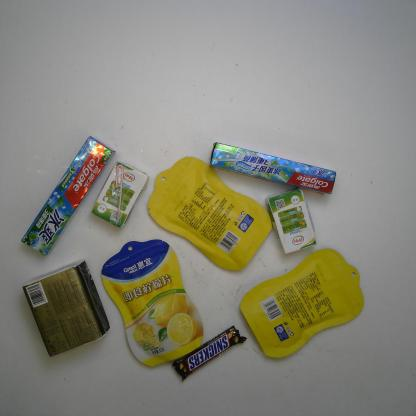Chocolate: (171, 325, 247, 383)
Dried Fruit: (148, 154, 274, 274), (239, 249, 368, 360), (102, 239, 210, 369)
Milk: (90, 161, 150, 227), (267, 187, 319, 257)
Personal Hygiene: (20, 136, 116, 257), (207, 140, 338, 197)
Tissue: (22, 258, 111, 358)
